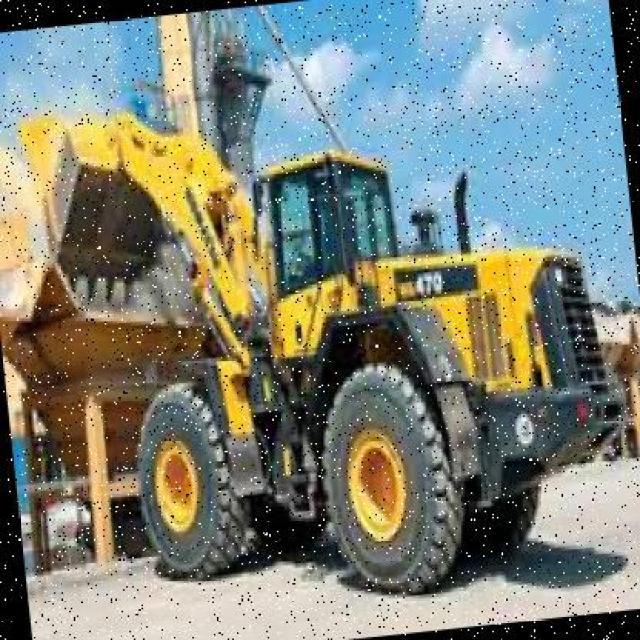buldozerpayloadergrader: (0, 45, 628, 620)
